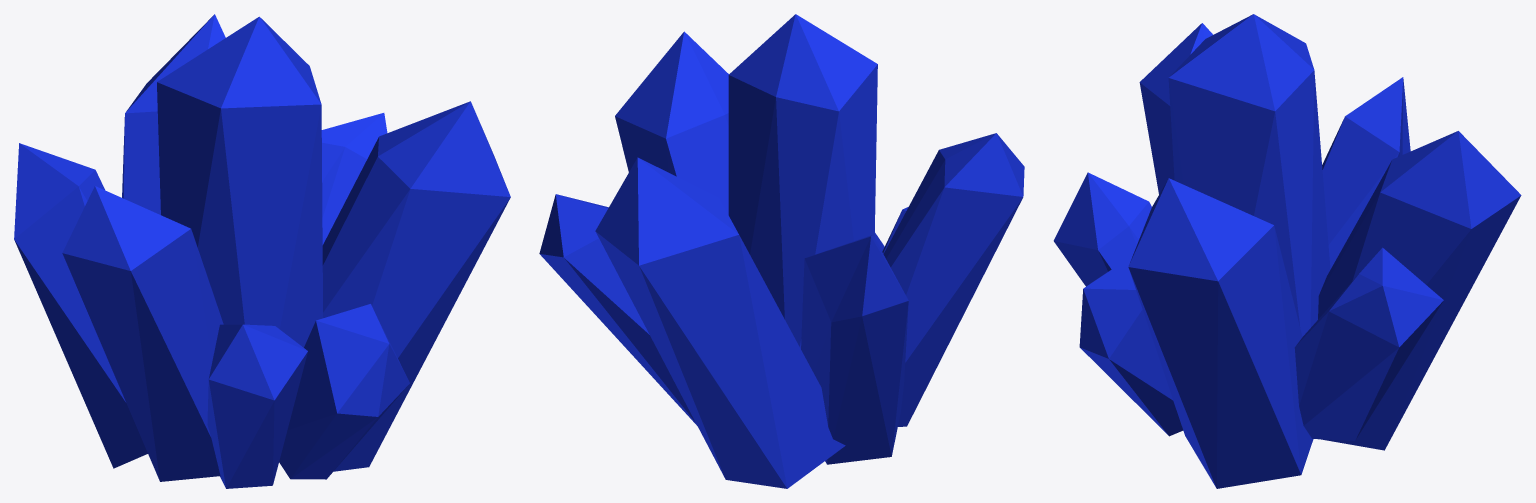
Rendered from blue_crystal_block.obj.
3 renders of one model, left to right at view 1: azimuth 30°, elevation 25°; view 2: azimuth 150°, elevation 25°; view 3: azimuth 270°, elevation 25°, orthographic. The views are drawn at different scales.
Visible parts, largest first — view 1: Icosphere.036_Icosphere.037; view 2: Icosphere.036_Icosphere.037; view 3: Icosphere.036_Icosphere.037.
Part boxes in pixels (<box>): Icosphere.036_Icosphere.037: <box>14,14,510,488</box>; Icosphere.036_Icosphere.037: <box>539,14,1024,488</box>; Icosphere.036_Icosphere.037: <box>1053,14,1521,488</box>.
Size of the model in its own units: 1.01 by 1.01 by 0.9894.
